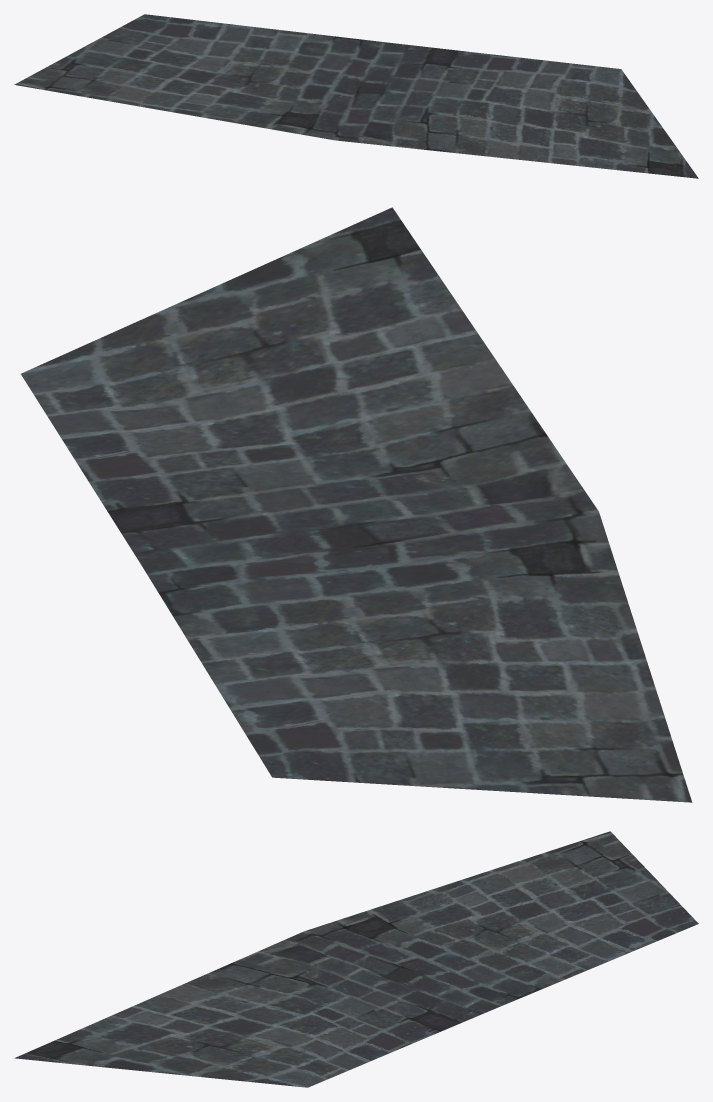
Rendered from menu_blend_brick06.fbx.
3 renders of one model, top to bottom at view 1: azimuth 30°, elevation 25°; view 2: azimuth 150°, elevation 25°; view 3: azimuth 270°, elevation 25°, orthographic. The views are drawn at different scales.
Parts seen in each view (by area): view 1: new_stone/brick_blend_shadow; view 2: new_stone/brick_blend_shadow; view 3: new_stone/brick_blend_shadow.
Part boxes in pixels (x1=…): new_stone/brick_blend_shadow: x1=14, y1=14, x2=698, y2=178; new_stone/brick_blend_shadow: x1=21, y1=207, x2=692, y2=802; new_stone/brick_blend_shadow: x1=14, y1=831, x2=698, y2=1087.
Size of the model in its own units: 5.83 by 0 by 6.58.
